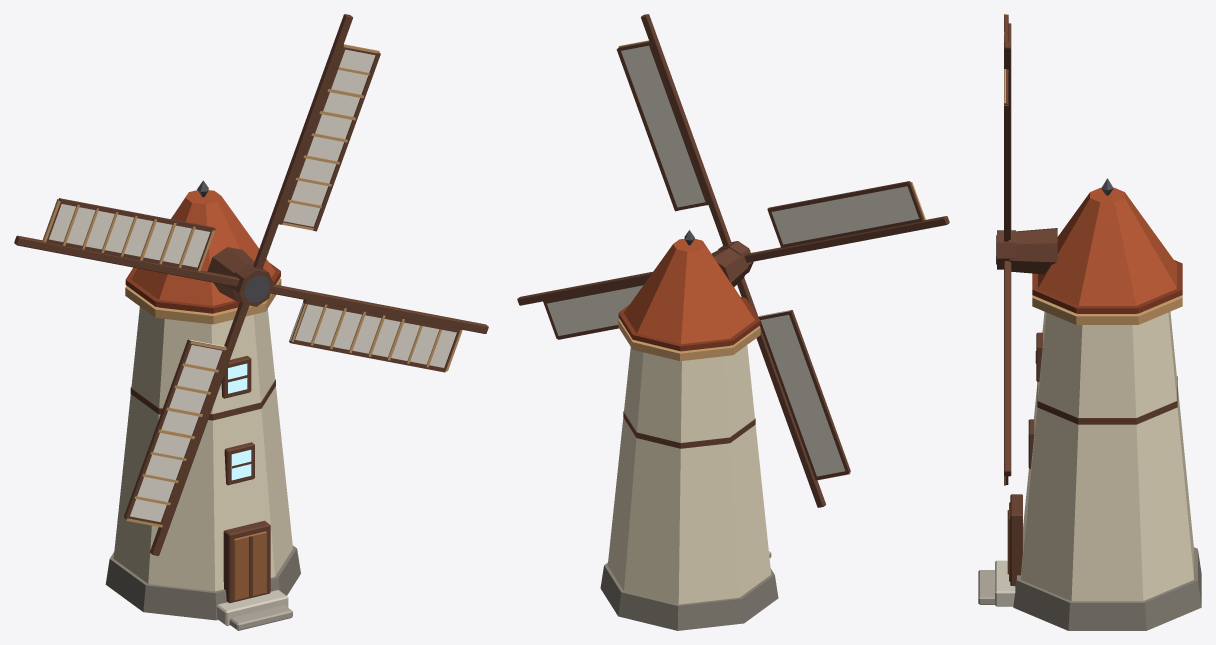
The model's file is Windmill.fbx.
The picture shows the model from 3 angles, left to right: view 1: azimuth 30°, elevation 25°; view 2: azimuth 150°, elevation 25°; view 3: azimuth 270°, elevation 25°; orthographic projection. The views are drawn at different scales.
Parts seen in each view (by area): view 1: Windmill_Tower.001, Windmill_Blades.001; view 2: Windmill_Tower.001, Windmill_Blades.001; view 3: Windmill_Tower.001, Windmill_Blades.001.
Boxes of the visible parts, box(x1,y1,x2,y2) form: Windmill_Tower.001: box(105, 180, 300, 630); Windmill_Blades.001: box(14, 14, 488, 555); Windmill_Tower.001: box(600, 230, 778, 630); Windmill_Blades.001: box(517, 14, 949, 507); Windmill_Tower.001: box(978, 178, 1201, 630); Windmill_Blades.001: box(996, 14, 1015, 485).
Size of the model in its own units: 13.57 by 15.84 by 5.37.
